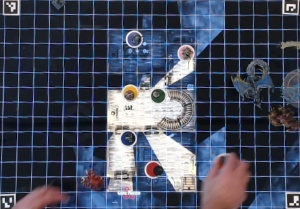blue: (119, 128, 136, 148)
green: (148, 86, 167, 103)
pink: (176, 43, 197, 64)
red: (143, 158, 163, 178)
violet: (124, 31, 144, 49)
yellow: (119, 81, 139, 101)
